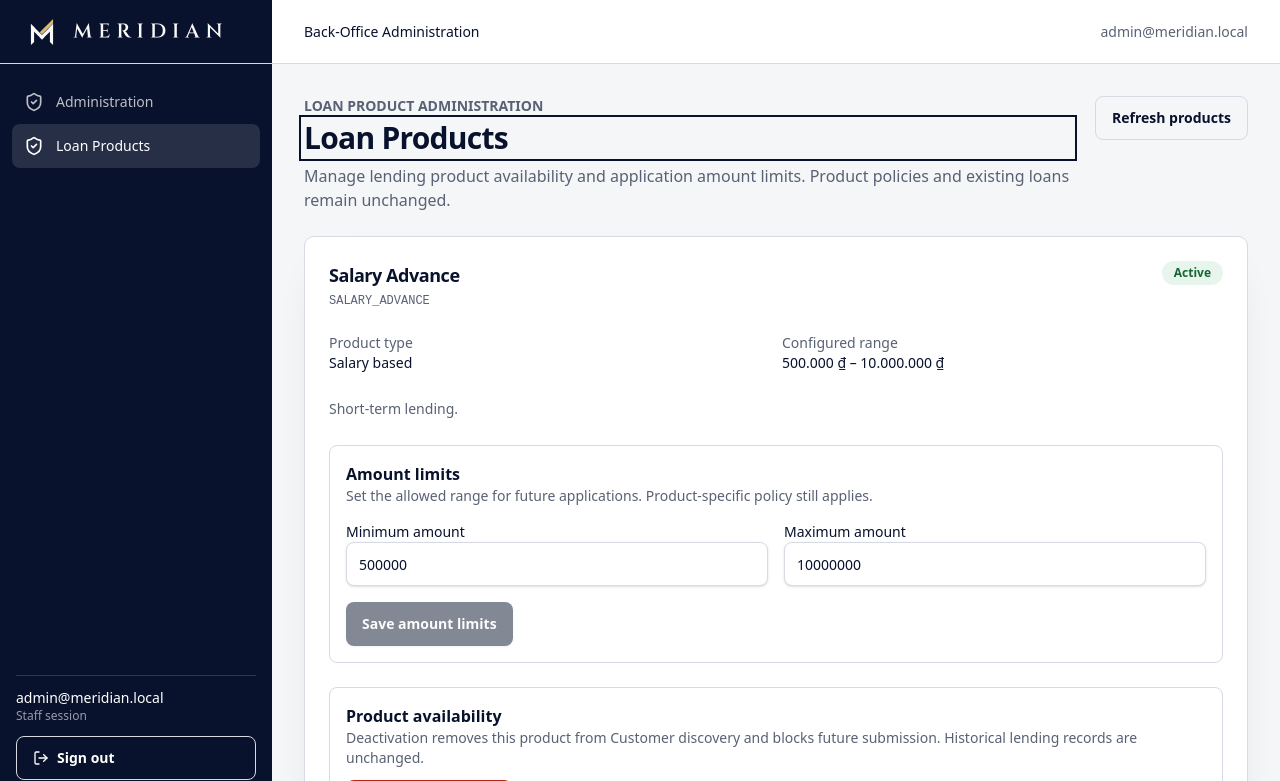
Test: Loan Product administration page › does not retry an unknown limit result and retains last confirmed state
Check: the heading "Salary Advance" is shown, box [329,261,460,289]
Replace the text in the number field labelled "Maximum amount" with "12000000" at x=995, y=564, box [784,542,1206,586]
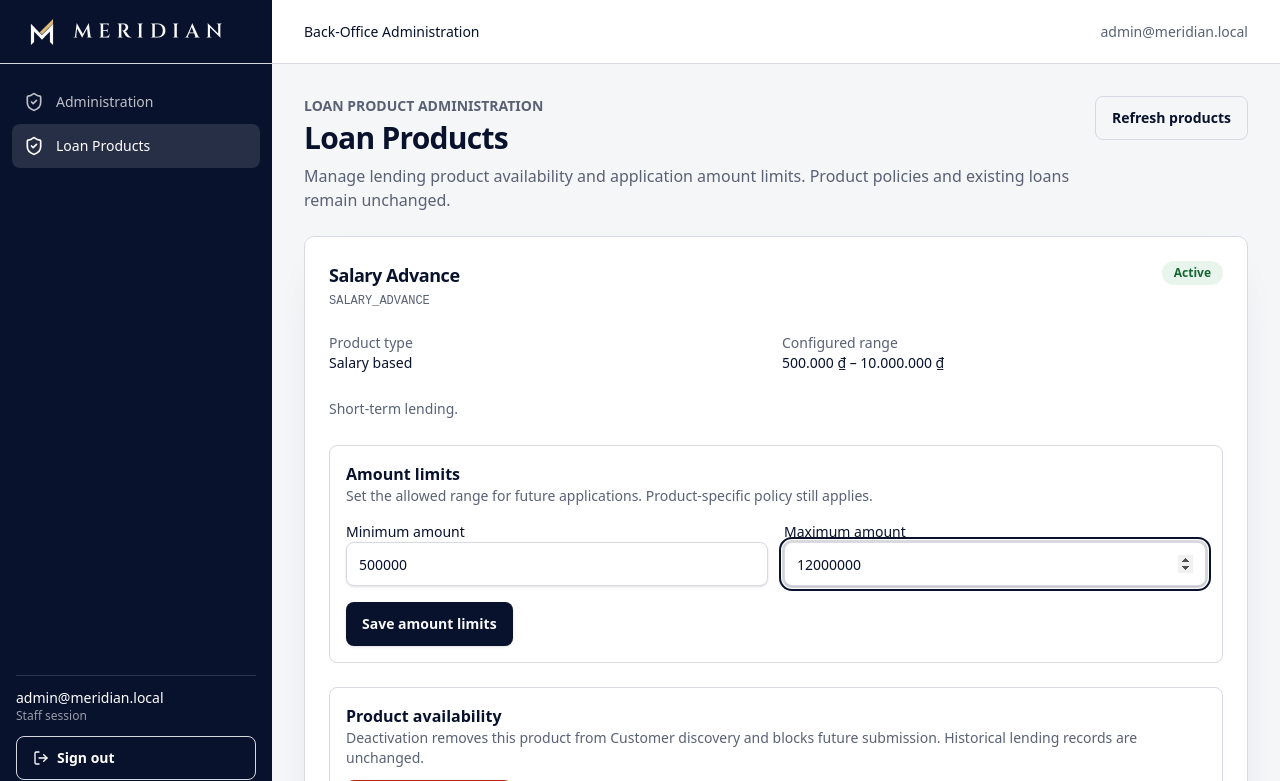
Click the button "Save amount limits".
click(429, 624)  # box [346,602,513,646]
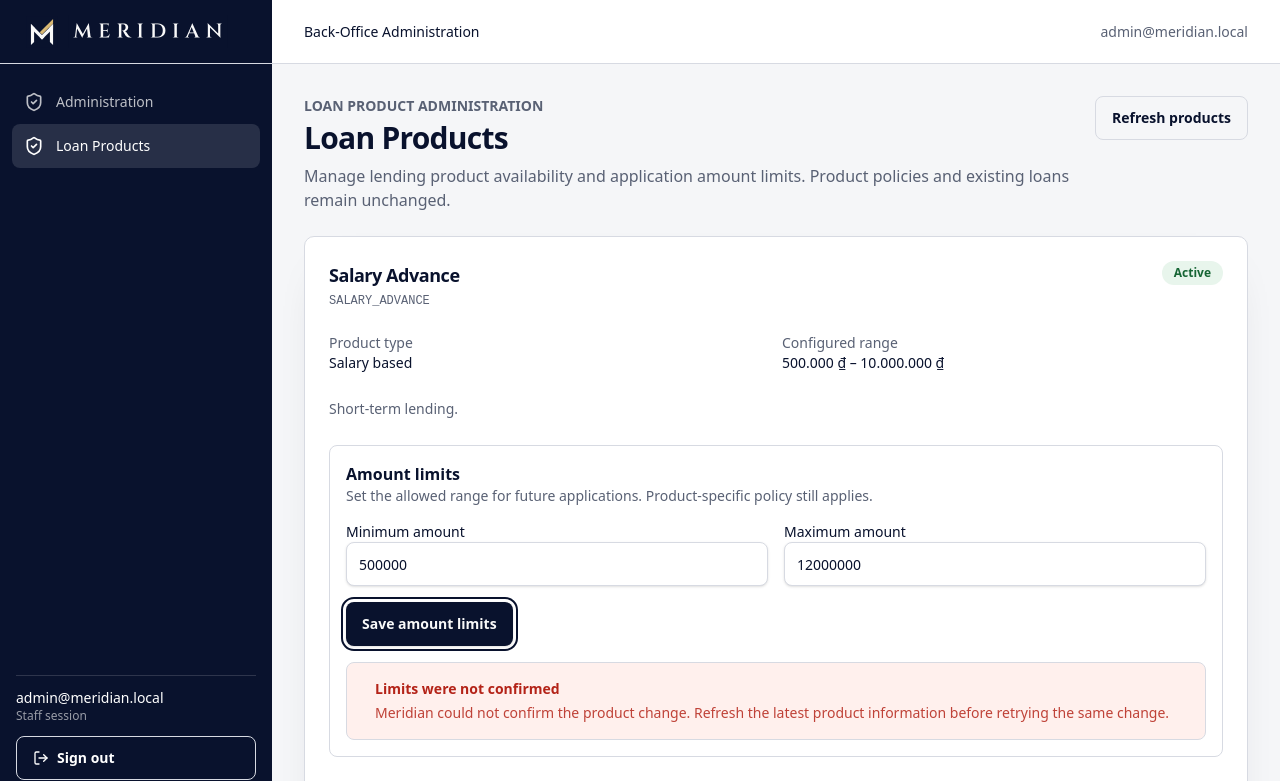
Check: the text "500.000 ₫ – 10.000.000 ₫" is shown, box [782,353,944,372]
Check: the heading "Limits were not confirmed" is shown, box [375,679,560,698]
